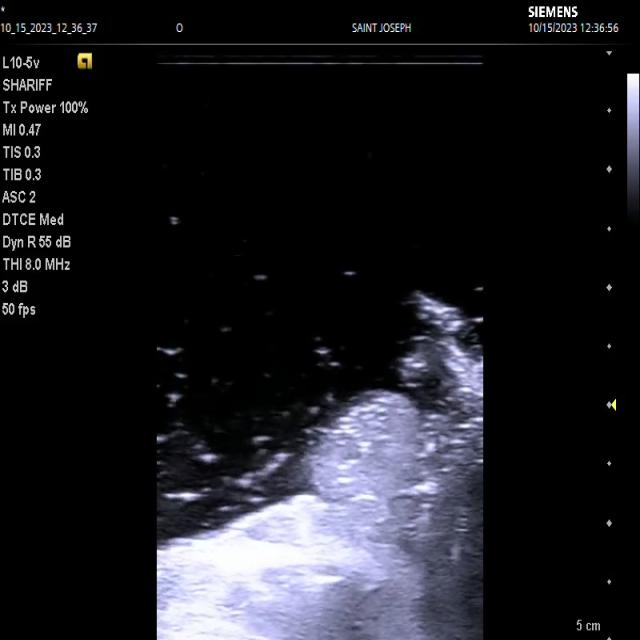tissue: (157, 297, 484, 640)
